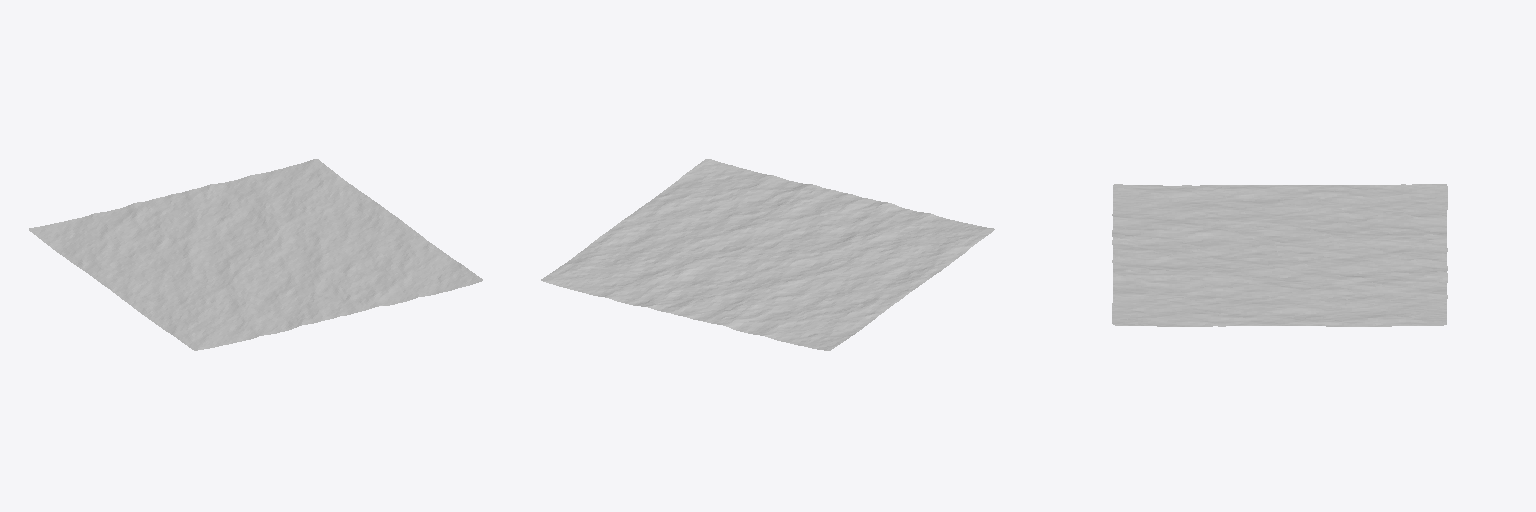
File: sea_000024.obj
The picture shows the model from 3 angles: view 1: azimuth 30°, elevation 25°; view 2: azimuth 150°, elevation 25°; view 3: azimuth 270°, elevation 25°; orthographic projection.
Visible parts, largest first — view 1: Plane; view 2: Plane; view 3: Plane.
Boxes of the visible parts, <box> form: Plane: <box>29,159,482,350</box>; Plane: <box>541,159,994,350</box>; Plane: <box>1112,184,1447,326</box>.
Size of the model in its own units: 201 by 1.58 by 201.